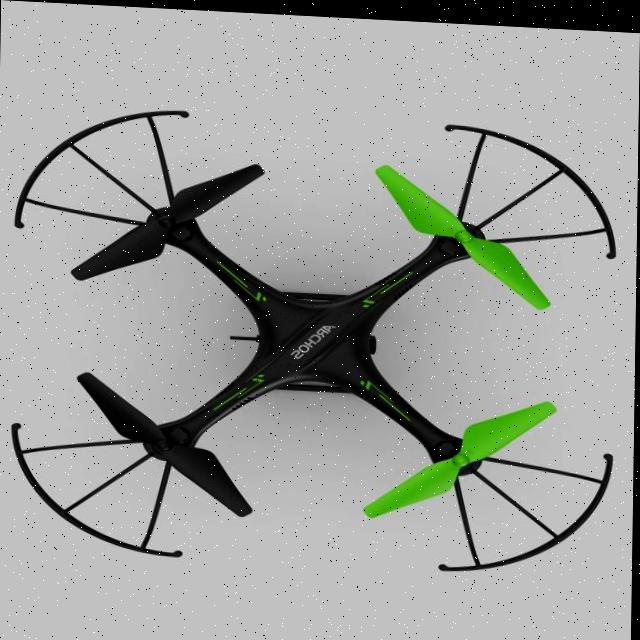drone: (9, 70, 619, 616)
